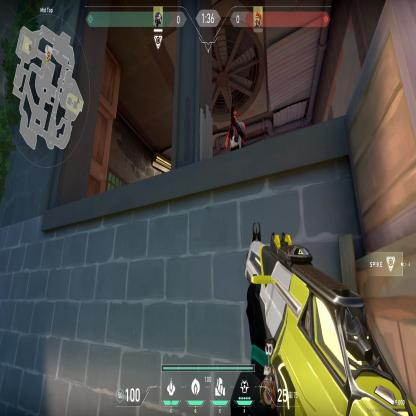enemy: (225, 108, 246, 154)
